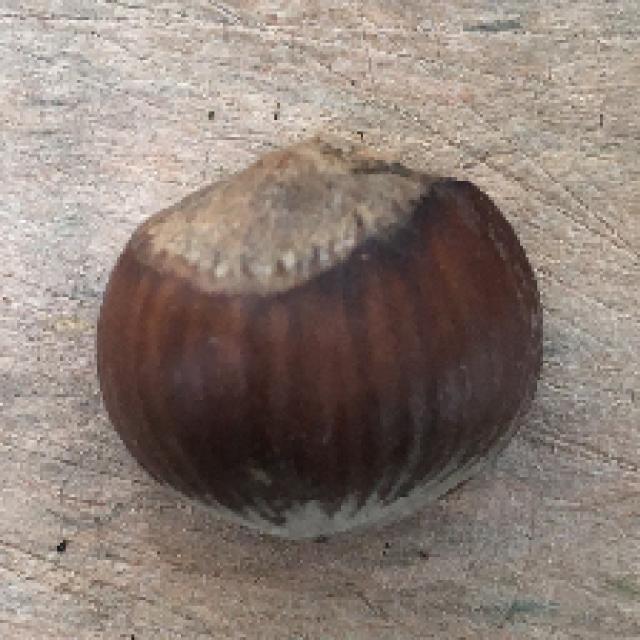damagedHazelnut: (100, 131, 568, 548)
